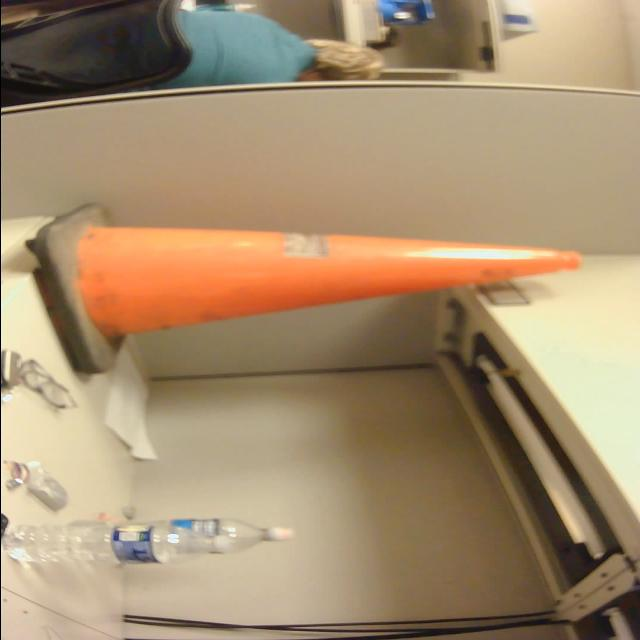traffic cone: (21, 200, 589, 380)
